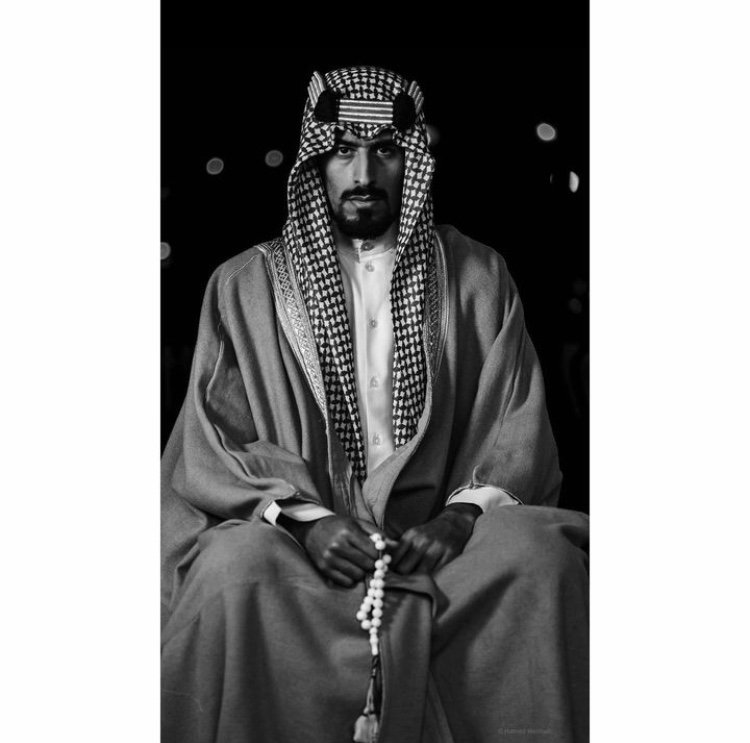Saudi_Founding_Day: (161, 60, 589, 742)
